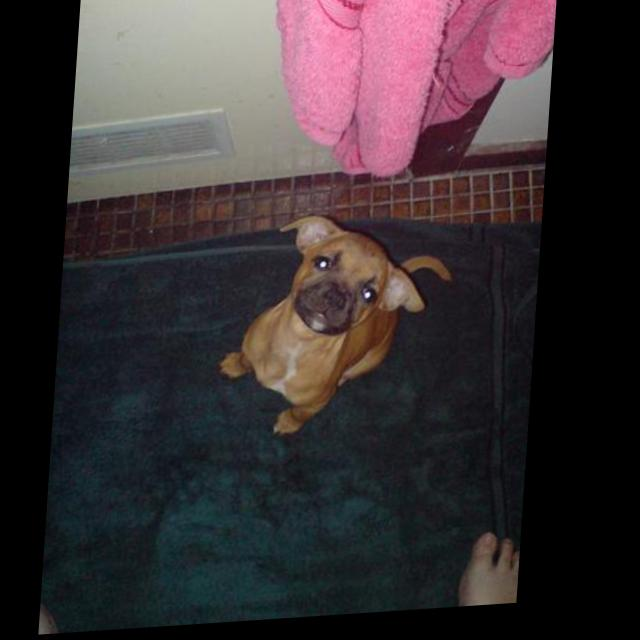staffford: (220, 212, 463, 446)
